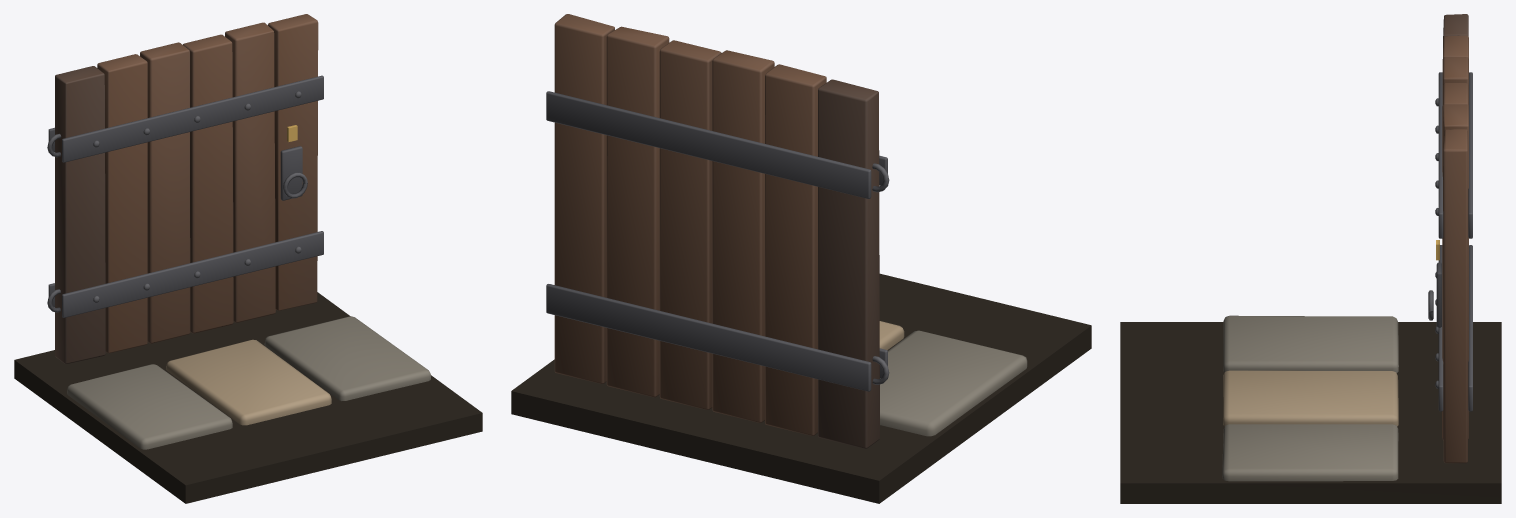
The model's file is kit_door.glb.
3 views of the same model, side by side, from view 1: azimuth 30°, elevation 25°; view 2: azimuth 150°, elevation 25°; view 3: azimuth 270°, elevation 25° (orthographic). The views are drawn at different scales.
Visible parts, largest first — view 1: leaf, base; view 2: leaf, base; view 3: base, leaf.
Part boxes in pixels (<box>): leaf: <box>47,14,323,363</box>; base: <box>14,292,482,503</box>; leaf: <box>546,14,889,448</box>; base: <box>511,273,1091,503</box>; base: <box>1120,315,1501,503</box>; leaf: <box>1428,14,1472,463</box>.
Size of the model in its own units: 1 by 1 by 1.
